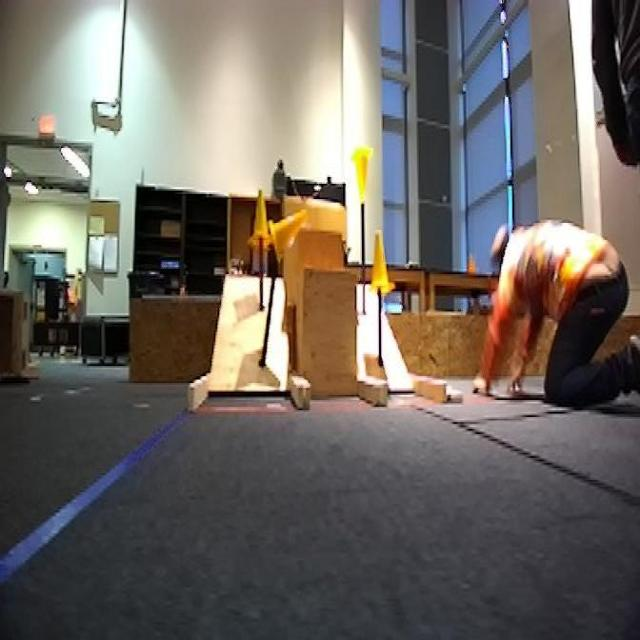frc_cone: (366, 225, 396, 298), (270, 209, 310, 262), (348, 146, 377, 211), (248, 192, 275, 250)
